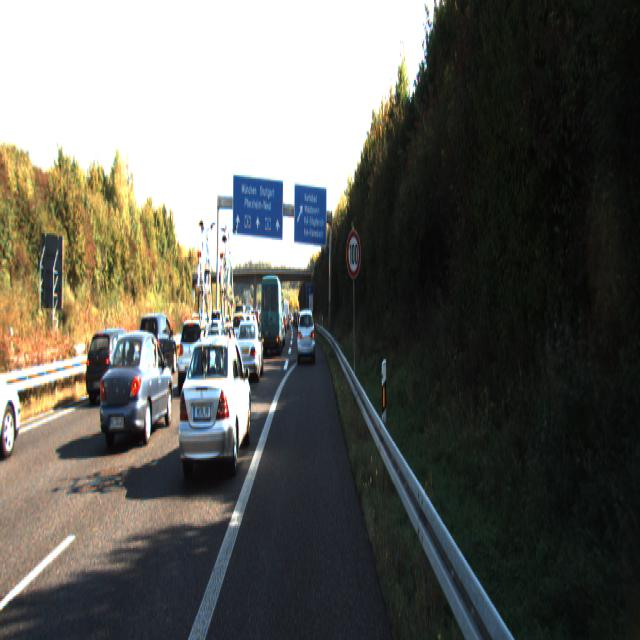Car: (174, 330, 252, 490), (96, 325, 174, 451), (85, 325, 142, 405), (0, 326, 27, 462), (174, 316, 216, 395), (136, 310, 177, 380), (233, 318, 264, 382), (260, 273, 282, 355), (297, 306, 315, 362)
